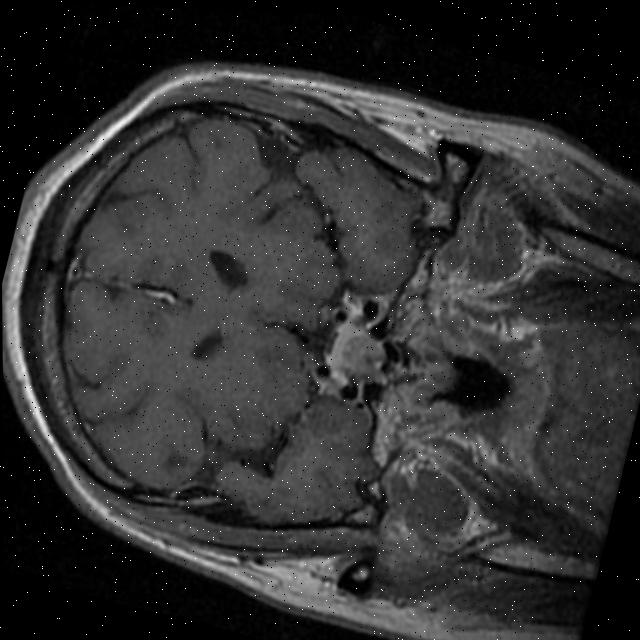Pituitary: (322, 312, 392, 387)
